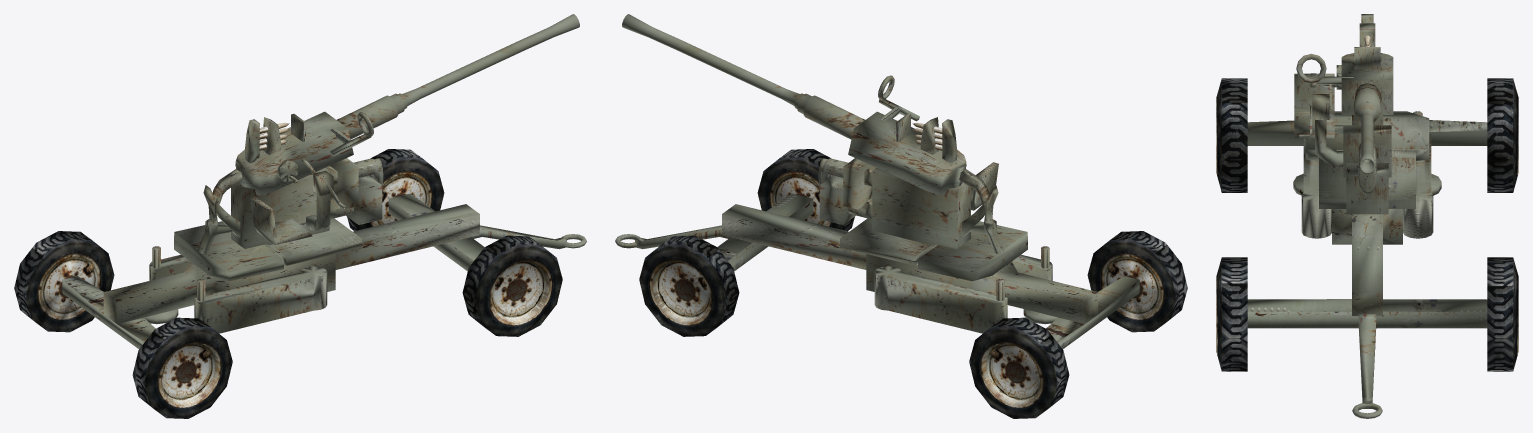
File: Bofors_40.fbx
3 renders of one model, left to right at view 1: azimuth 30°, elevation 25°; view 2: azimuth 150°, elevation 25°; view 3: azimuth 270°, elevation 25°, orthographic. The views are drawn at different scales.
Parts seen in each view (by area): view 1: main; view 2: main; view 3: main.
Part boxes in pixels (left/top/right/bottom): main: left=14, top=14, right=586, bottom=418; main: left=615, top=14, right=1187, bottom=418; main: left=1216, top=14, right=1518, bottom=418.
Size of the model in its own units: 581 by 271 by 268.
